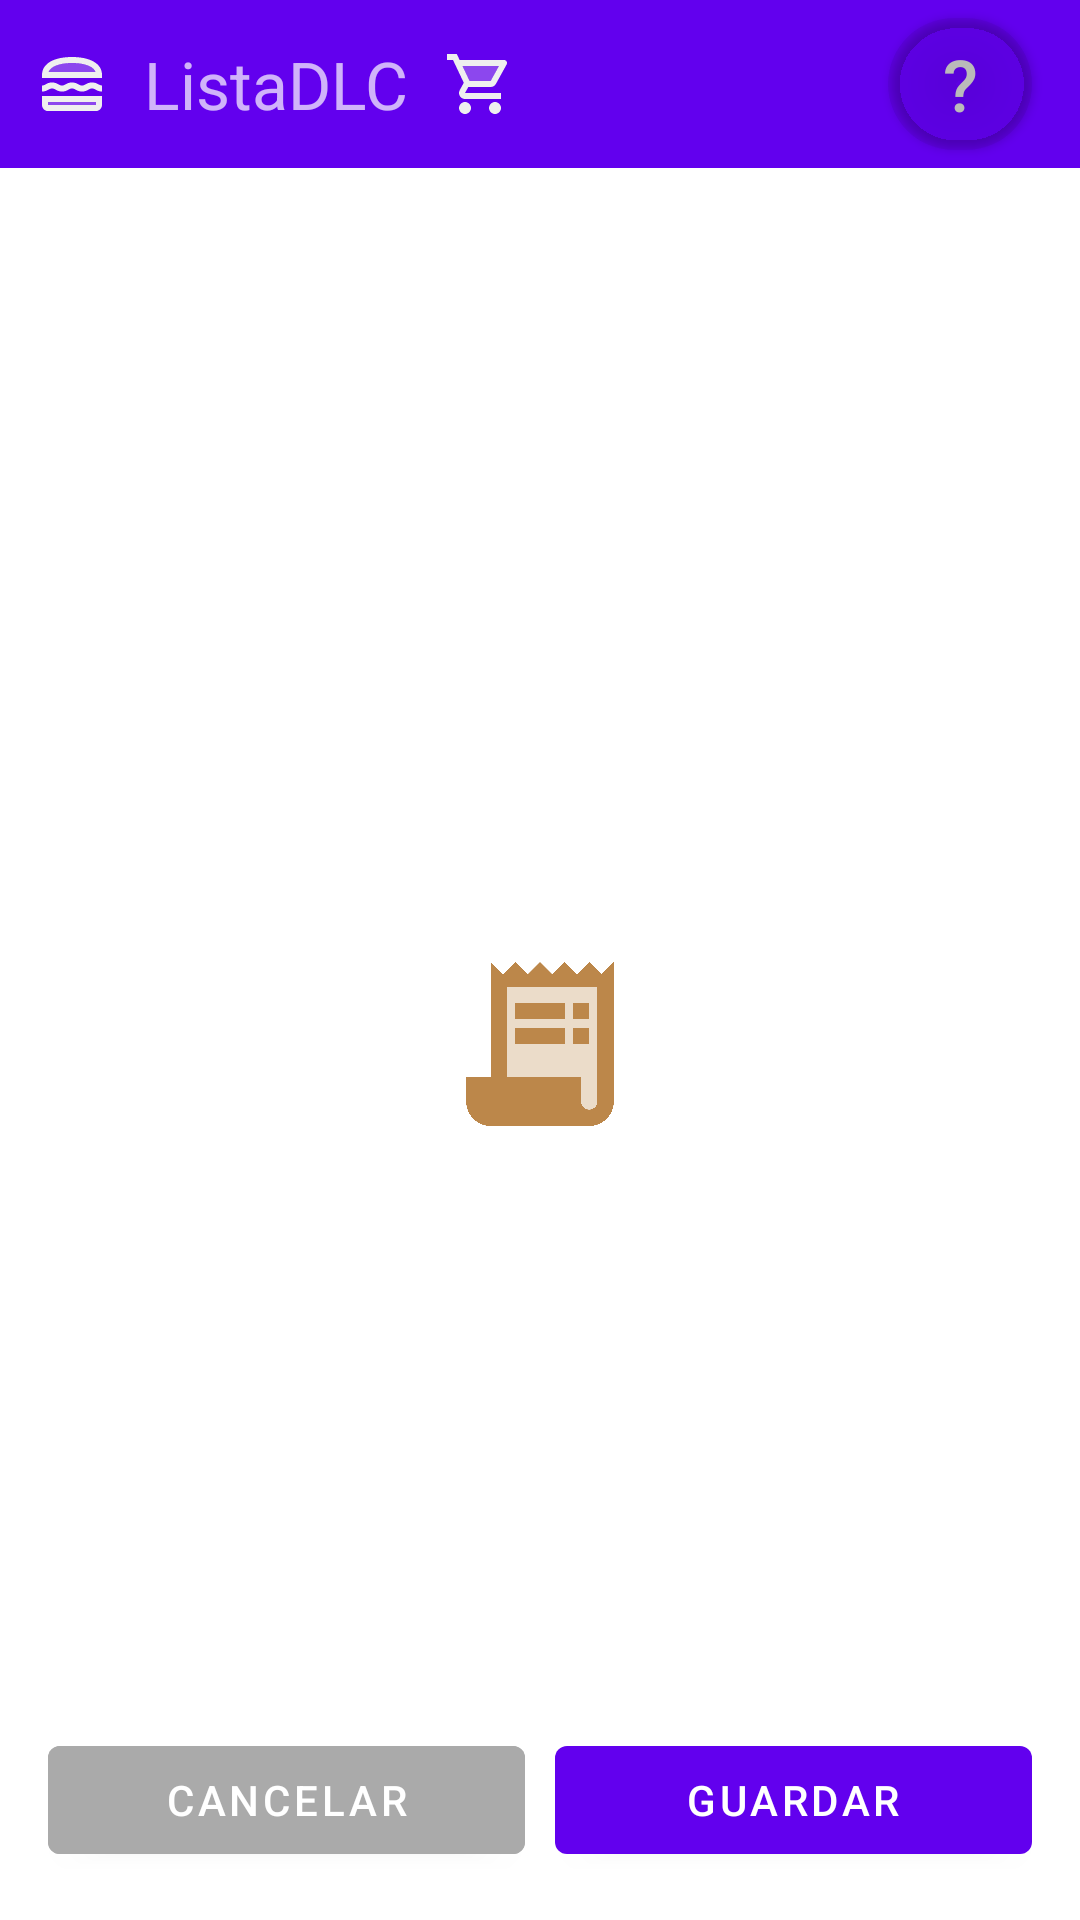

Point at icon controls on the screen. Image size 1080px×1920px, points as point (x, y).
buymode on: point (477, 84)
hamburguer: point (72, 84)
